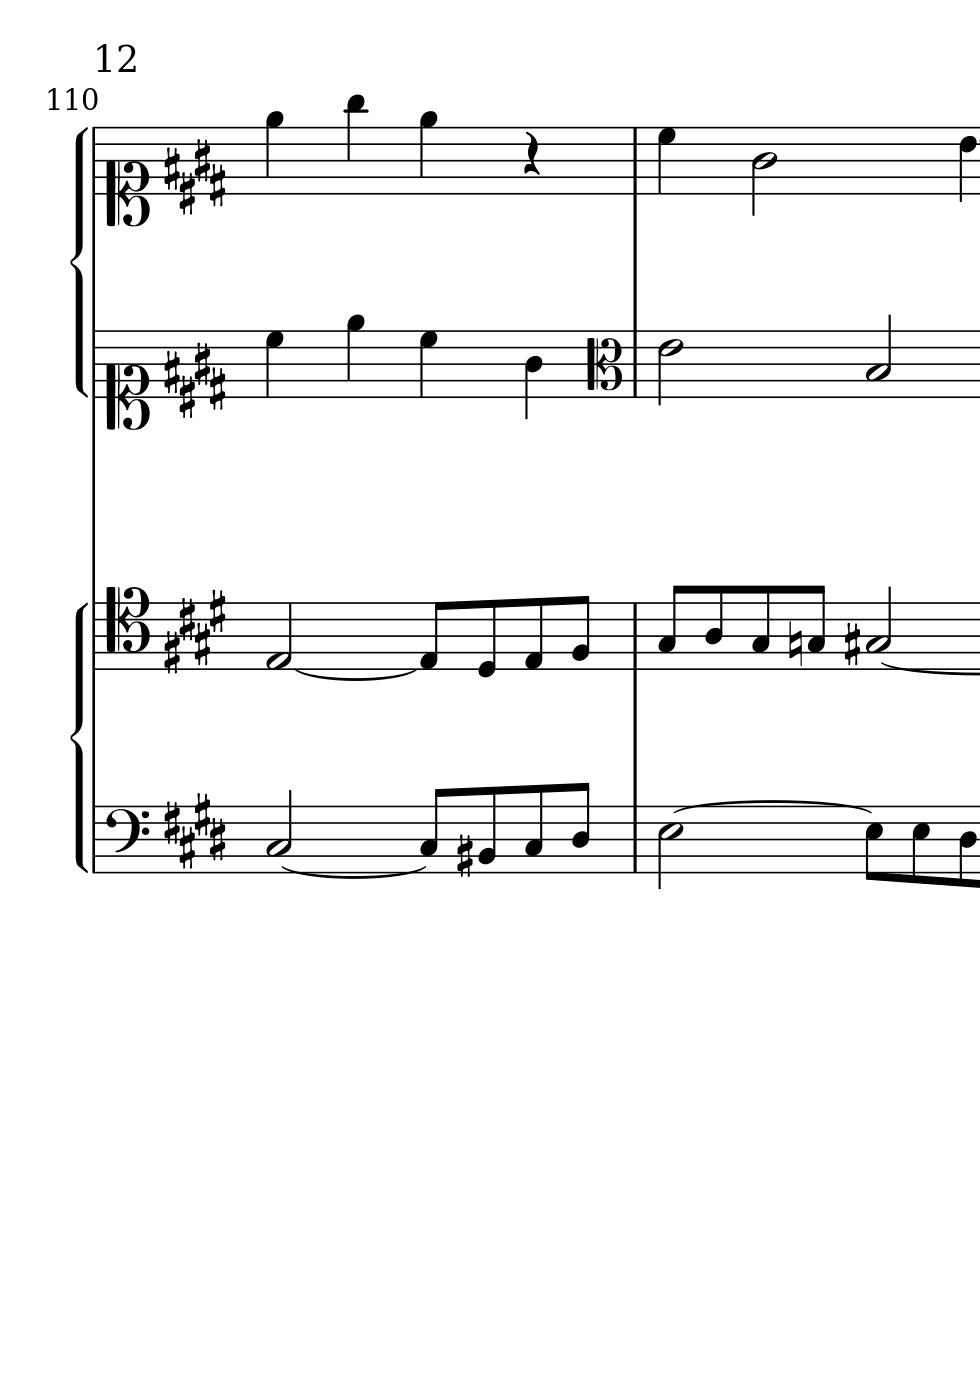0: (80, 85, 97, 115)
1: (94, 42, 112, 76), (46, 86, 62, 115), (63, 86, 78, 115)
2: (115, 41, 138, 75)
2_1: (264, 600, 294, 671)
2_3: (864, 585, 892, 669), (864, 315, 892, 398), (265, 789, 293, 870)
2_4: (749, 125, 777, 214)
2_5: (657, 805, 683, 889)
2_6: (657, 329, 682, 406)
4_11: (342, 91, 366, 195)
4_4: (522, 328, 544, 419)
4_6: (956, 125, 977, 204)
4_7: (262, 328, 286, 400), (416, 328, 440, 399), (655, 126, 676, 196)
4_9: (416, 109, 439, 196), (343, 312, 365, 399), (263, 109, 285, 195)
8_0: (474, 598, 498, 679)
8_1: (417, 599, 447, 672), (521, 595, 545, 672)
8_2: (476, 785, 498, 875), (568, 594, 591, 671)
8_3: (418, 787, 448, 875), (657, 583, 685, 671), (521, 784, 545, 875), (749, 584, 772, 672), (806, 584, 828, 671)
8_4: (570, 780, 592, 876), (703, 583, 725, 672), (956, 804, 977, 890)
8_5: (910, 804, 930, 885), (863, 804, 883, 883)
Brace: (69, 123, 89, 401), (70, 599, 89, 877)
Cclef: (584, 329, 623, 398)
E_S: (163, 589, 230, 673), (163, 336, 225, 421), (161, 793, 226, 869), (161, 138, 226, 213)
Fclef: (102, 803, 148, 874)
Natural: (786, 618, 804, 669)
Rests4: (519, 130, 543, 177)
Sharp: (842, 620, 862, 667), (455, 834, 474, 880)
Single_barline: (626, 127, 644, 195), (626, 602, 644, 670), (626, 329, 643, 398), (626, 805, 643, 874), (87, 603, 103, 672), (87, 127, 103, 195), (87, 331, 103, 399), (88, 806, 102, 874)
Slur: (671, 797, 873, 814), (279, 865, 426, 880), (295, 669, 417, 682)
Soprano_Cclef: (104, 123, 151, 229), (103, 328, 150, 431)
Tensor_Cclef: (104, 585, 148, 670)
